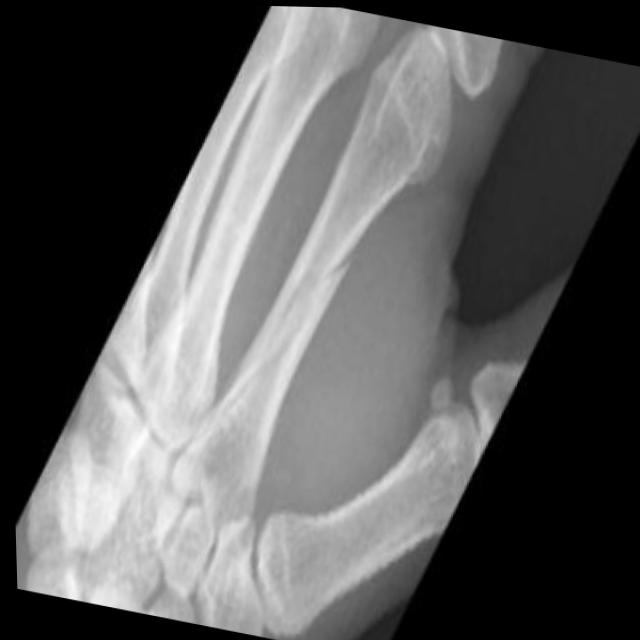fracture: (299, 231, 368, 313)
